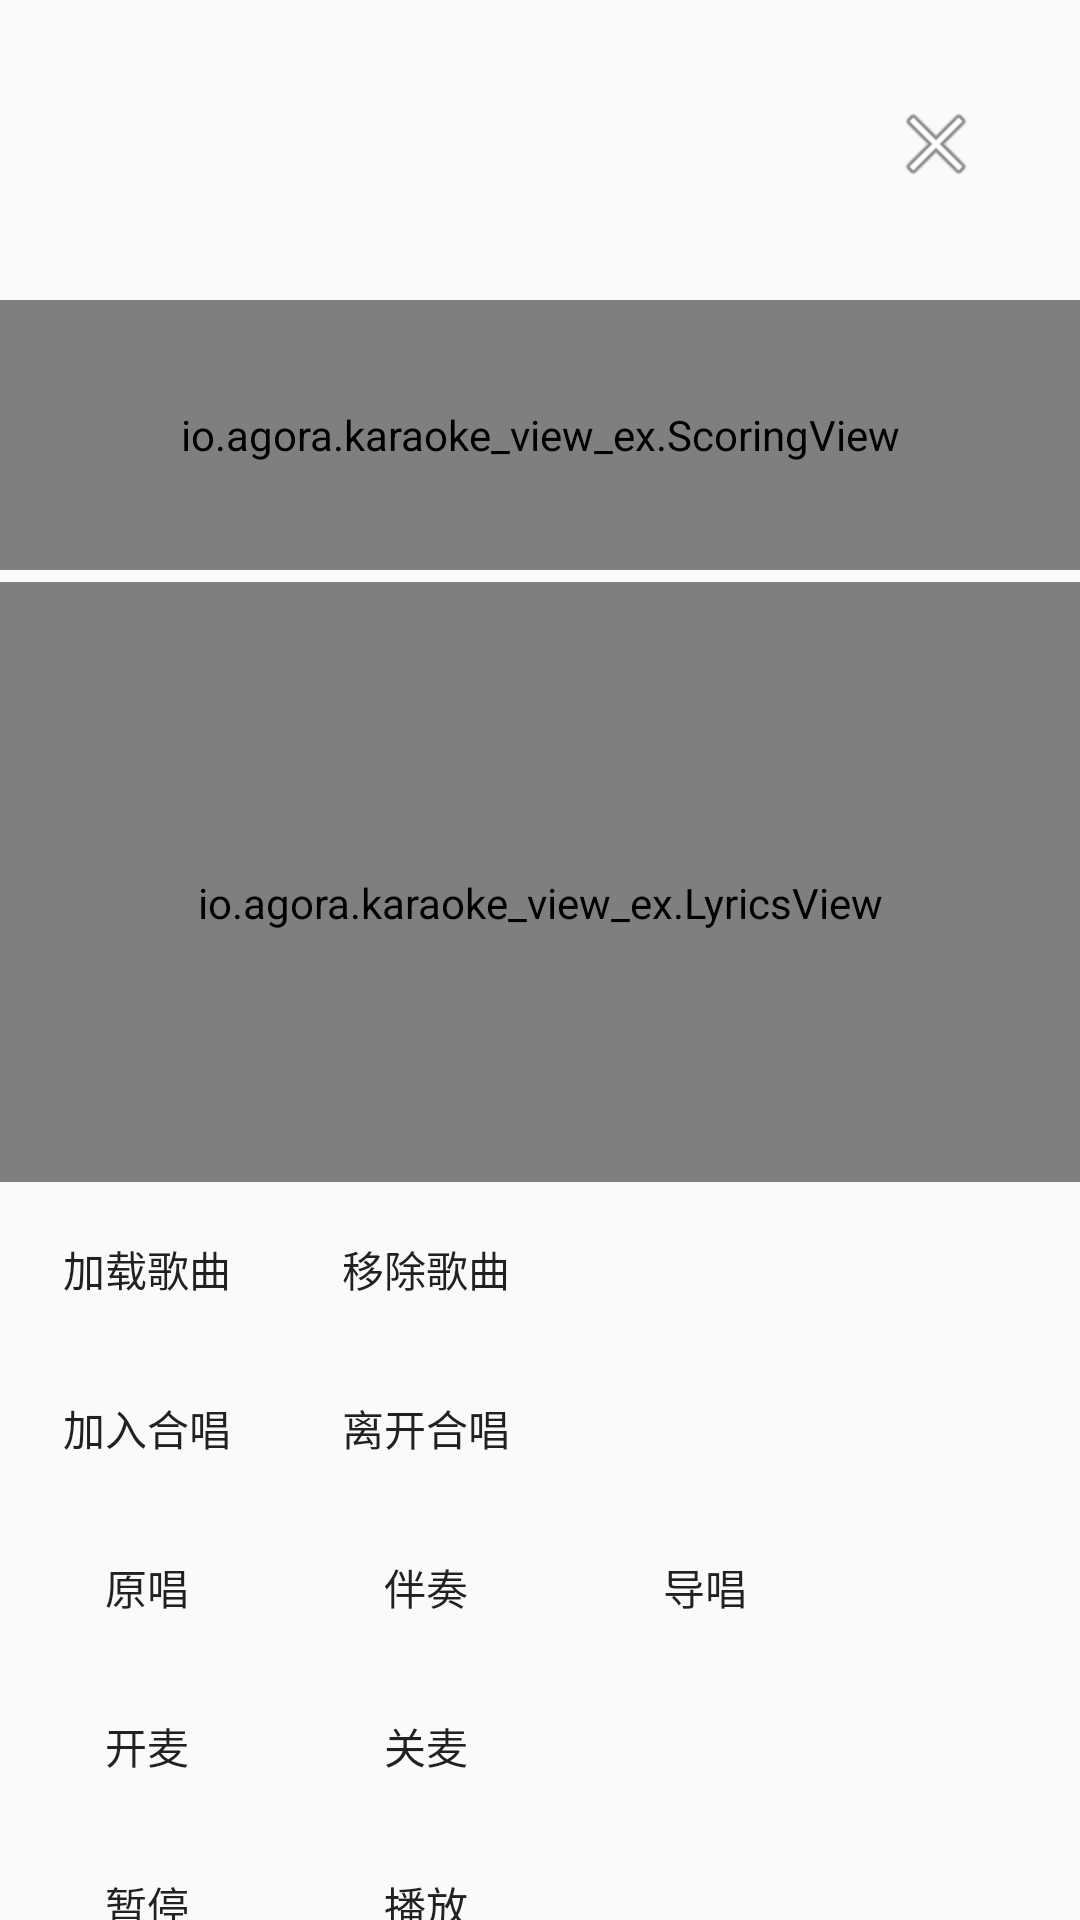

Named icons in this screenshot (1080*1920) and their centers, (x,y):
close clear cancel: (936,144)
